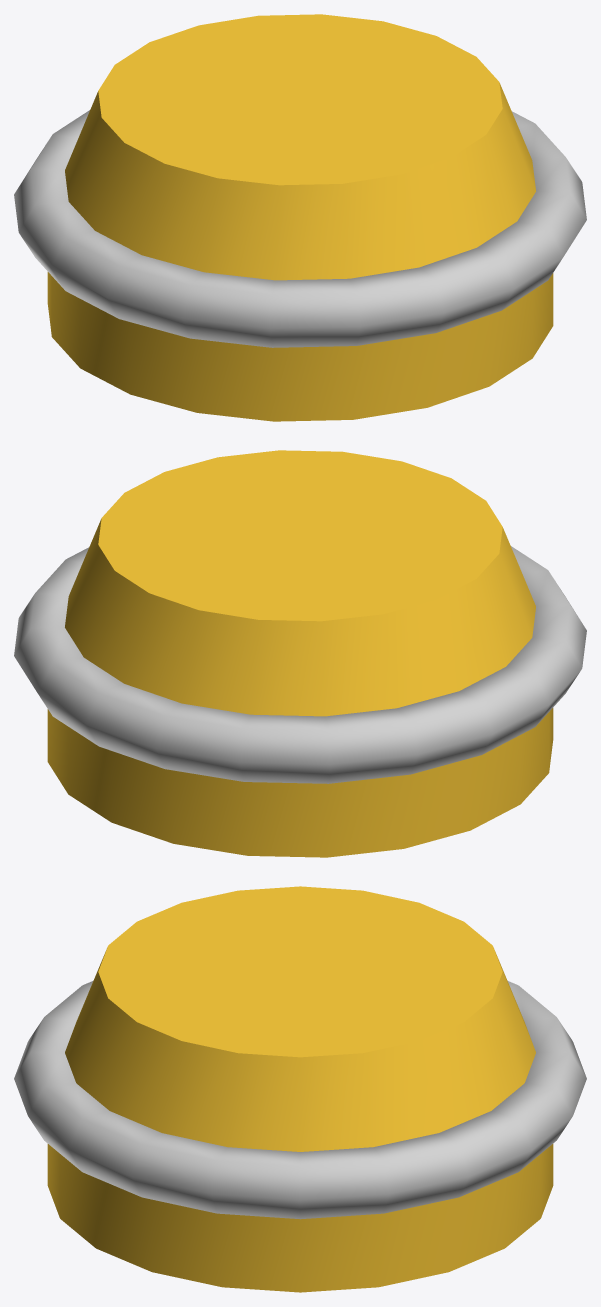
Rendered from hammer_puck.fbx.
3 views of the same model, one above another, from view 1: azimuth 30°, elevation 25°; view 2: azimuth 150°, elevation 25°; view 3: azimuth 270°, elevation 25° (orthographic).
Visible parts, largest first — view 1: hammer_puck; view 2: hammer_puck; view 3: hammer_puck.
Part boxes in pixels (x1=…): hammer_puck: x1=14, y1=14, x2=586, y2=421; hammer_puck: x1=14, y1=450, x2=586, y2=857; hammer_puck: x1=14, y1=886, x2=586, y2=1292.
Size of the model in its own units: 0.17 by 0.07 by 0.17.
